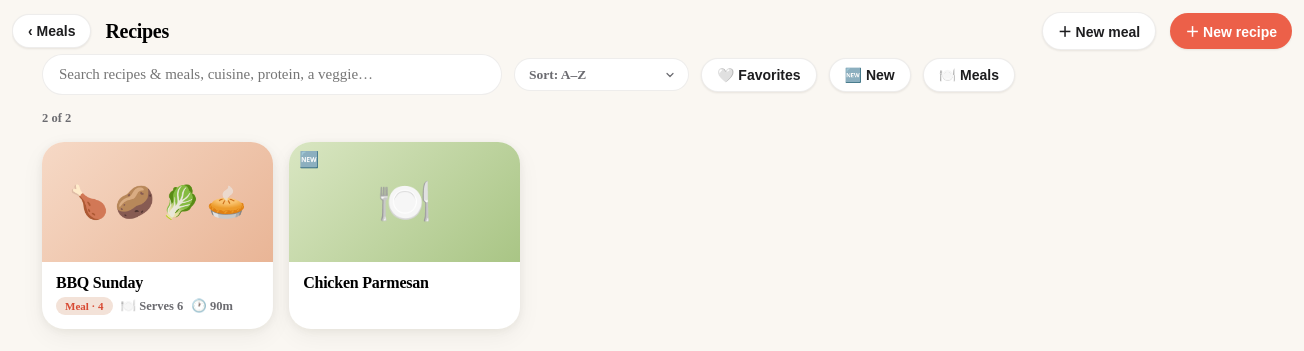
Test: RecipesLibrary — saved meals are first-class library citizens › drops meals when a recipe-only structured filter is on (they carry no protein/cuisine)
Click the button "🤍 Favorites" at (759, 74), box top-left (701, 58), bottom-right (817, 92)
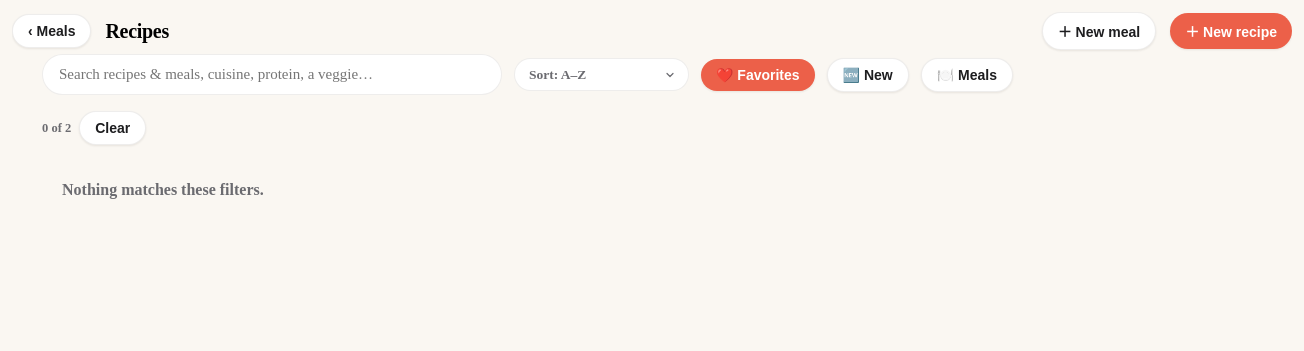
Expected: the button "BBQ Sunday" is gone
